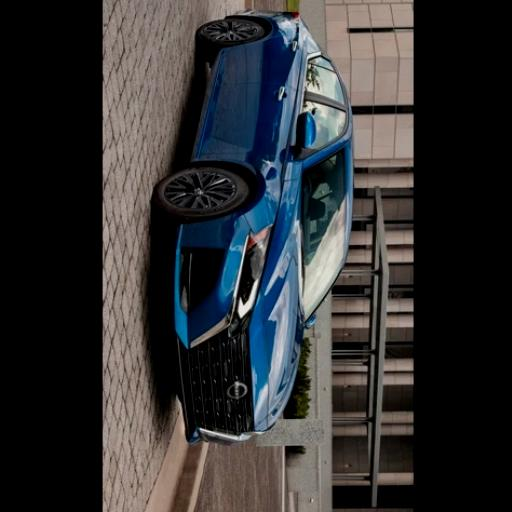sedan: (153, 10, 353, 444)
